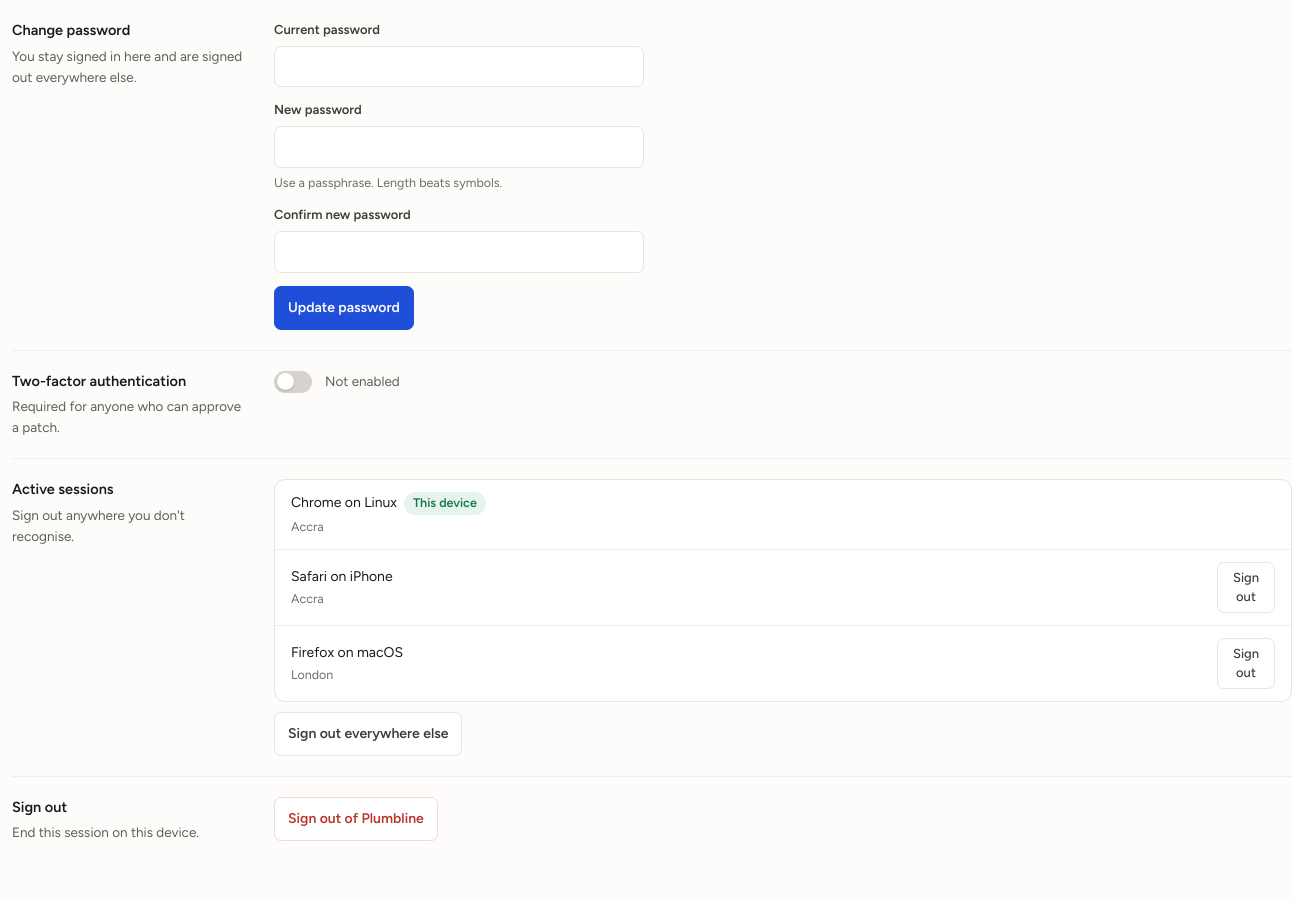
Scenario: sign out everywhere else signs out every non-current session
Step 1. Click the button "Sign out everywhere else" → (368,734), box x1=274 y1=712 x2=462 y2=756
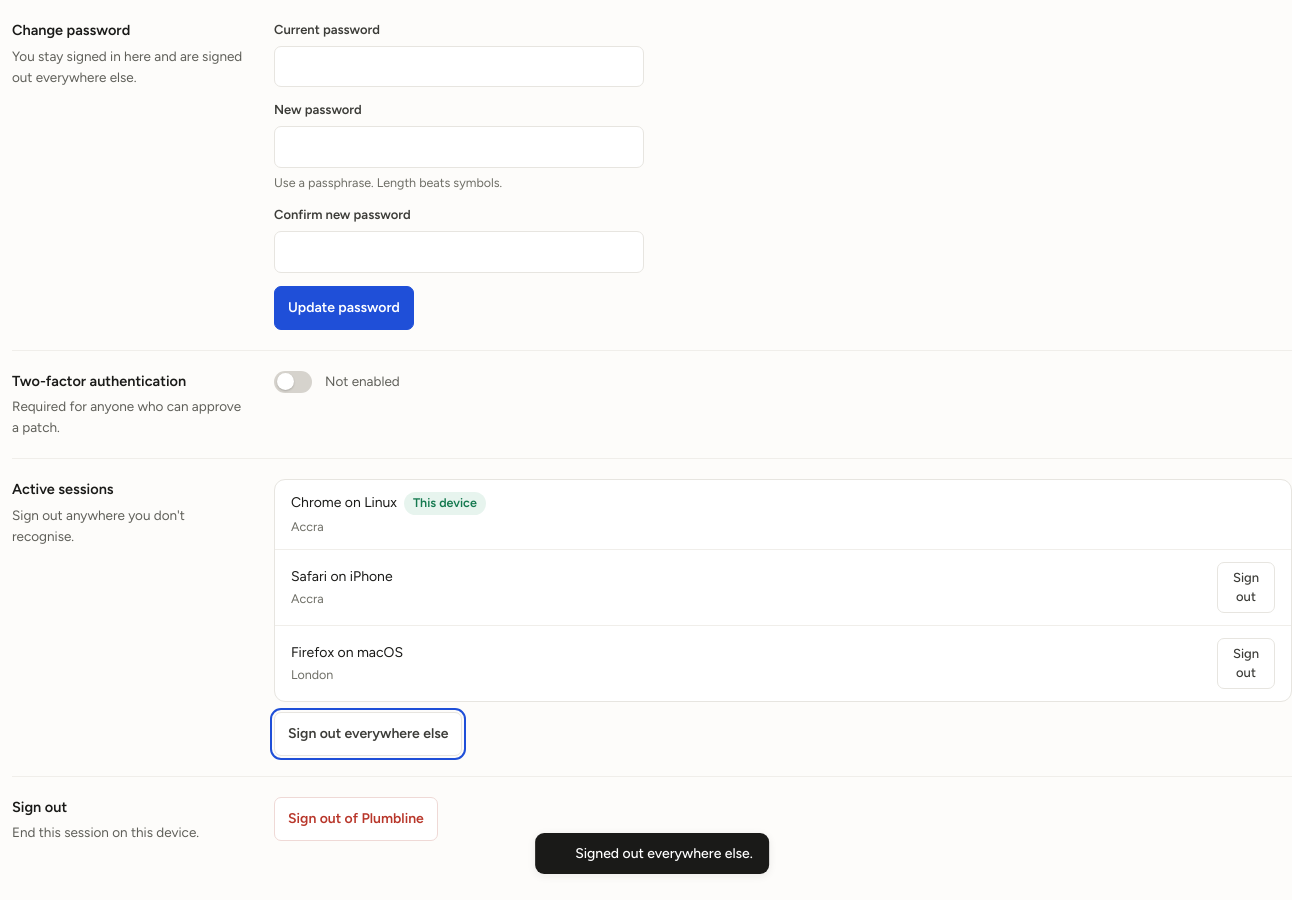
Now the text "Signed out everywhere else." is shown, box x1=535 y1=833 x2=769 y2=874
